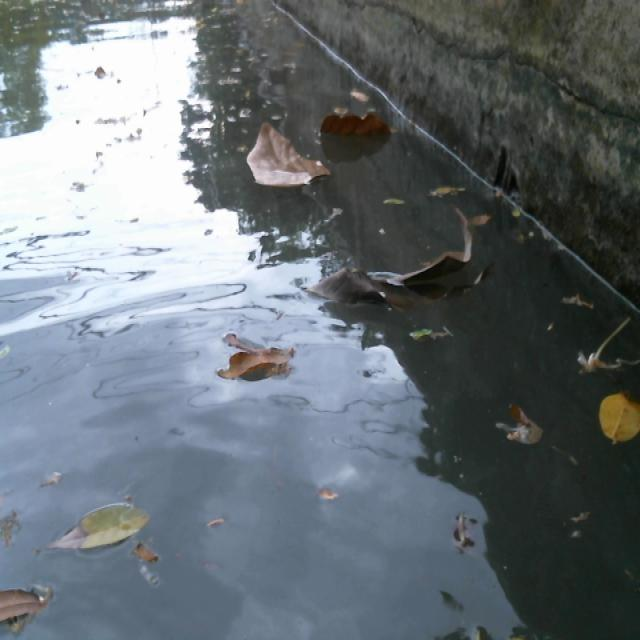Big-leaf: (299, 217, 491, 317), (222, 106, 330, 196), (212, 315, 309, 390), (322, 107, 395, 152)
Small-leaf: (62, 476, 158, 560), (491, 392, 551, 461), (589, 384, 640, 451), (0, 567, 49, 635), (424, 183, 480, 214), (374, 193, 417, 230), (356, 79, 390, 119), (563, 288, 595, 319), (116, 546, 168, 565)
